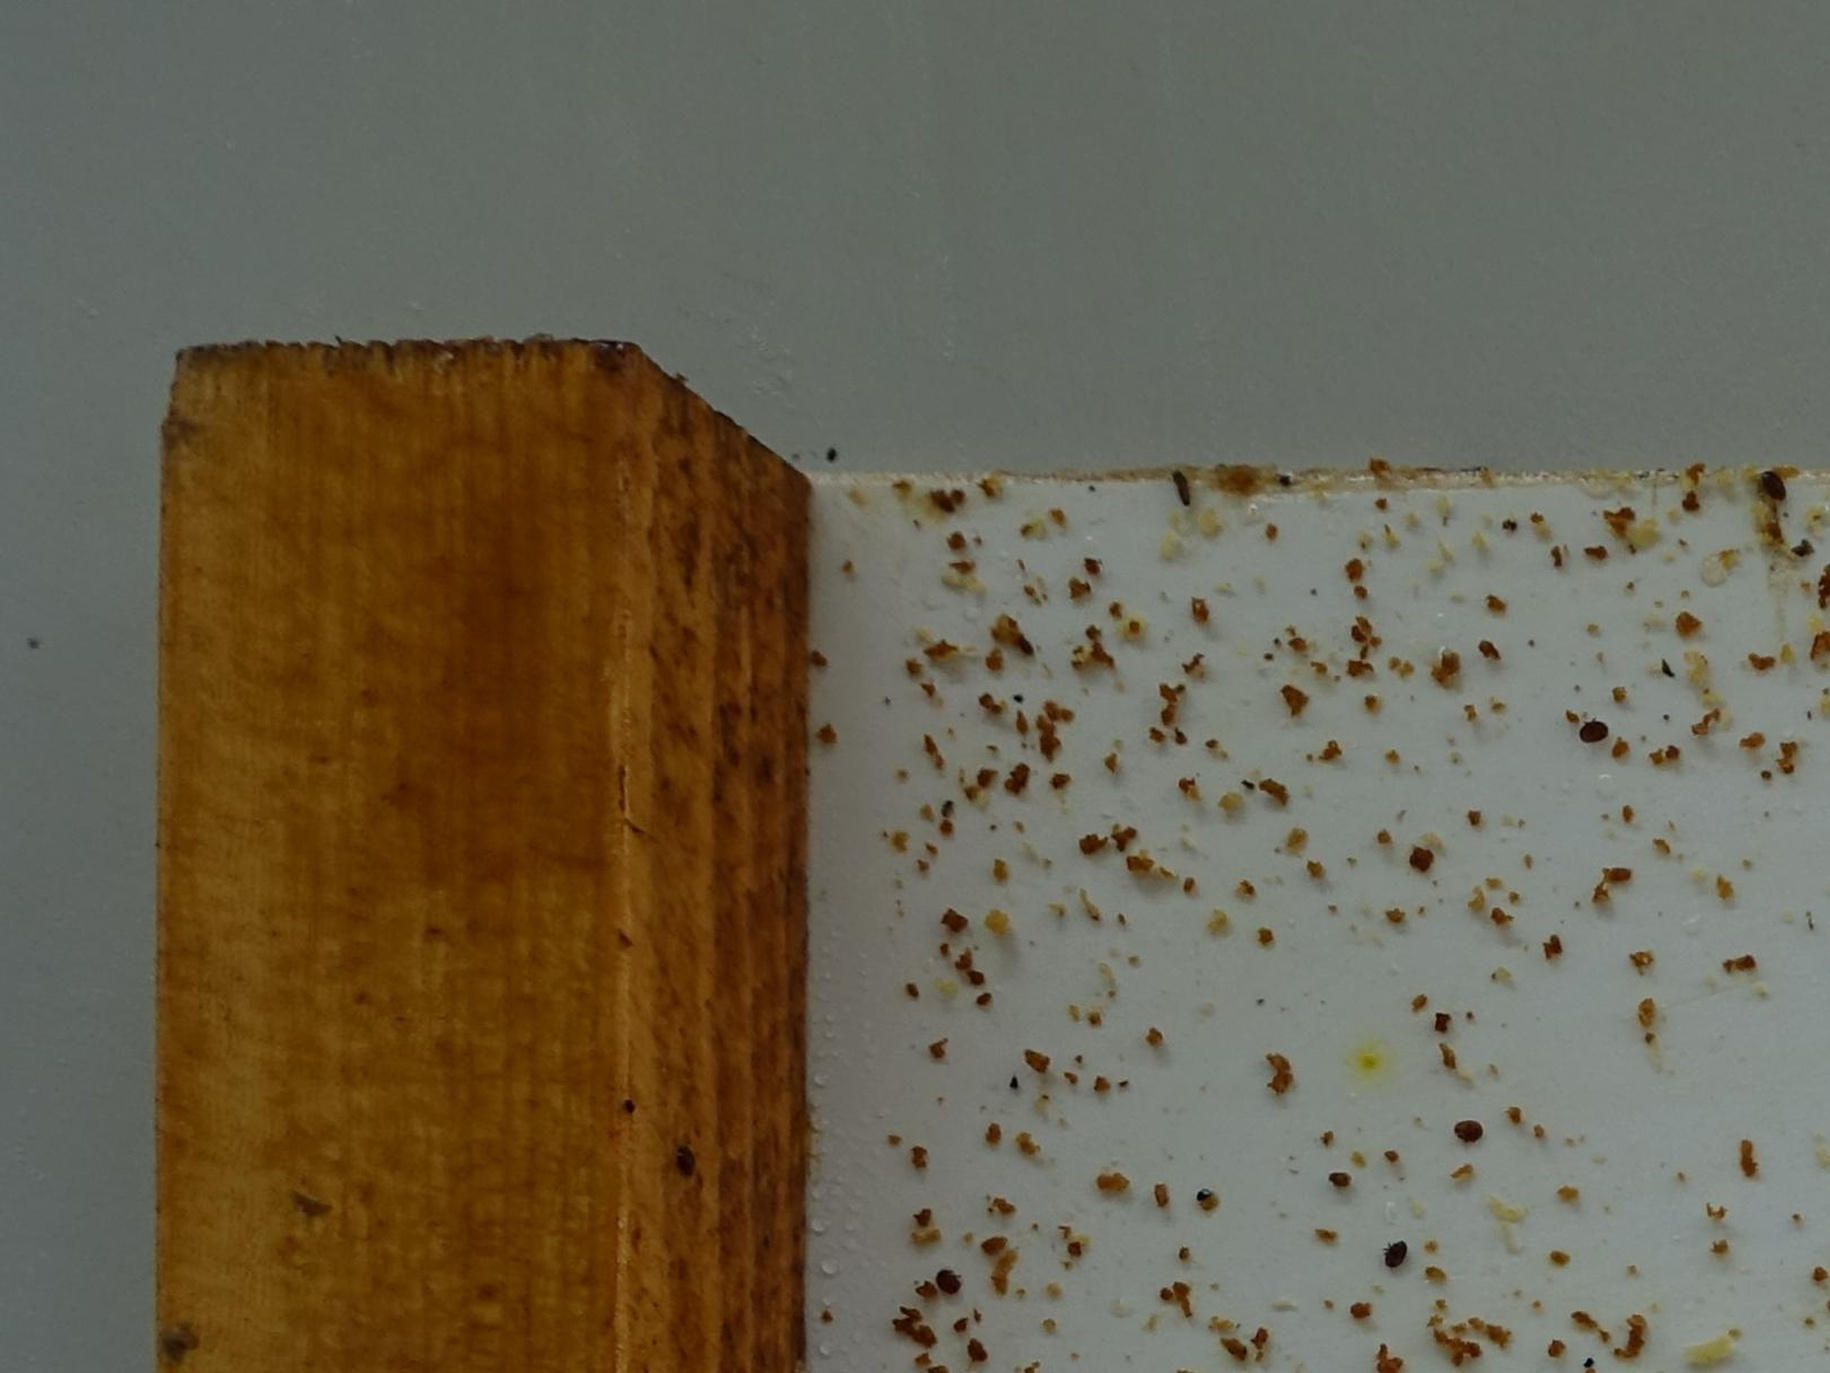Varroa: (1457, 1113, 1482, 1139), (1592, 717, 1614, 744), (1389, 1243, 1407, 1263), (940, 1275, 958, 1297), (1759, 477, 1778, 493)
